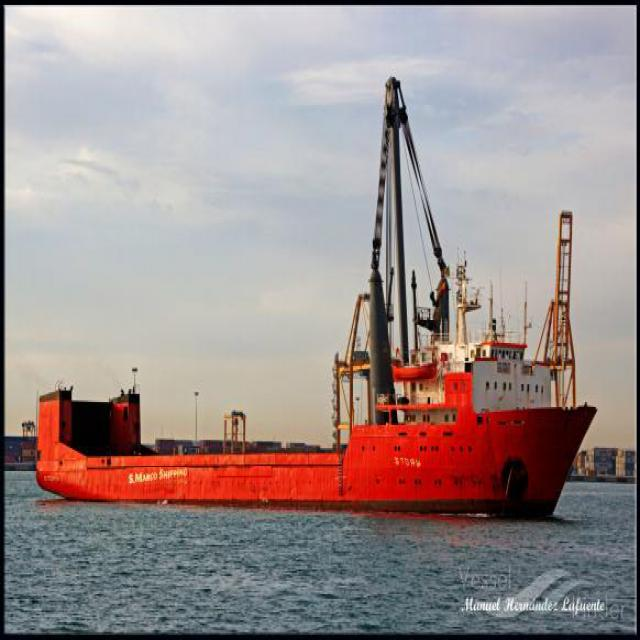OCR: (122, 467, 190, 490), (390, 452, 424, 469)
